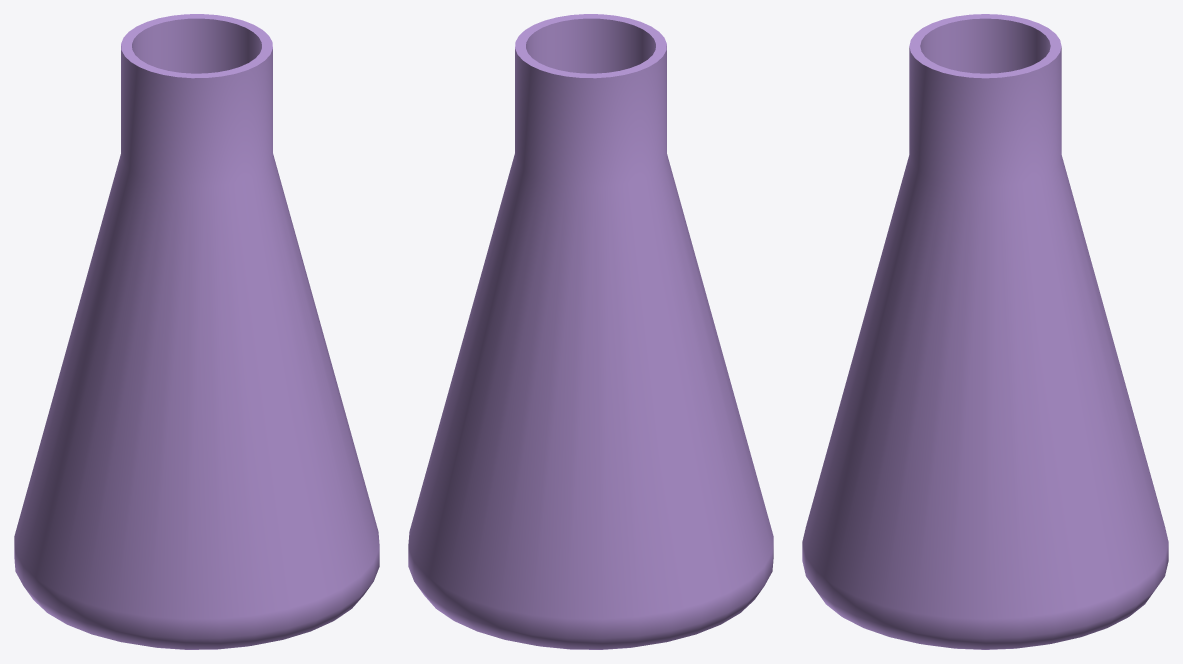
Rendered from Kolben.glb.
3 views of the same model, side by side, from view 1: azimuth 30°, elevation 25°; view 2: azimuth 150°, elevation 25°; view 3: azimuth 270°, elevation 25° (orthographic).
Visible parts, largest first — view 1: Cone; view 2: Cone; view 3: Cone.
Part boxes in pixels (left/top/right/bottom): Cone: left=14, top=14, right=379, bottom=649; Cone: left=408, top=14, right=773, bottom=649; Cone: left=802, top=14, right=1168, bottom=649.
Bounding box in the file's own units: 0.1411 × 0.2303 × 0.1411.
